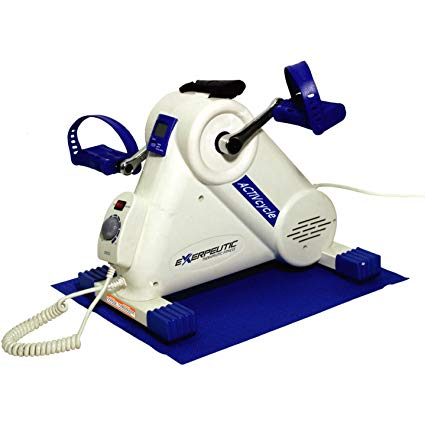gym_bike: (26, 36, 414, 363)
